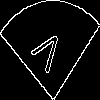V: (25, 25, 65, 83)
